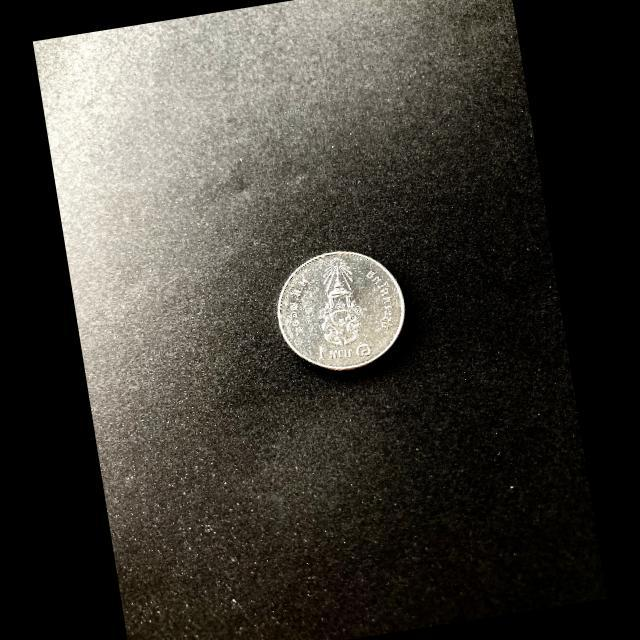1 Bath: (277, 251, 409, 371)
